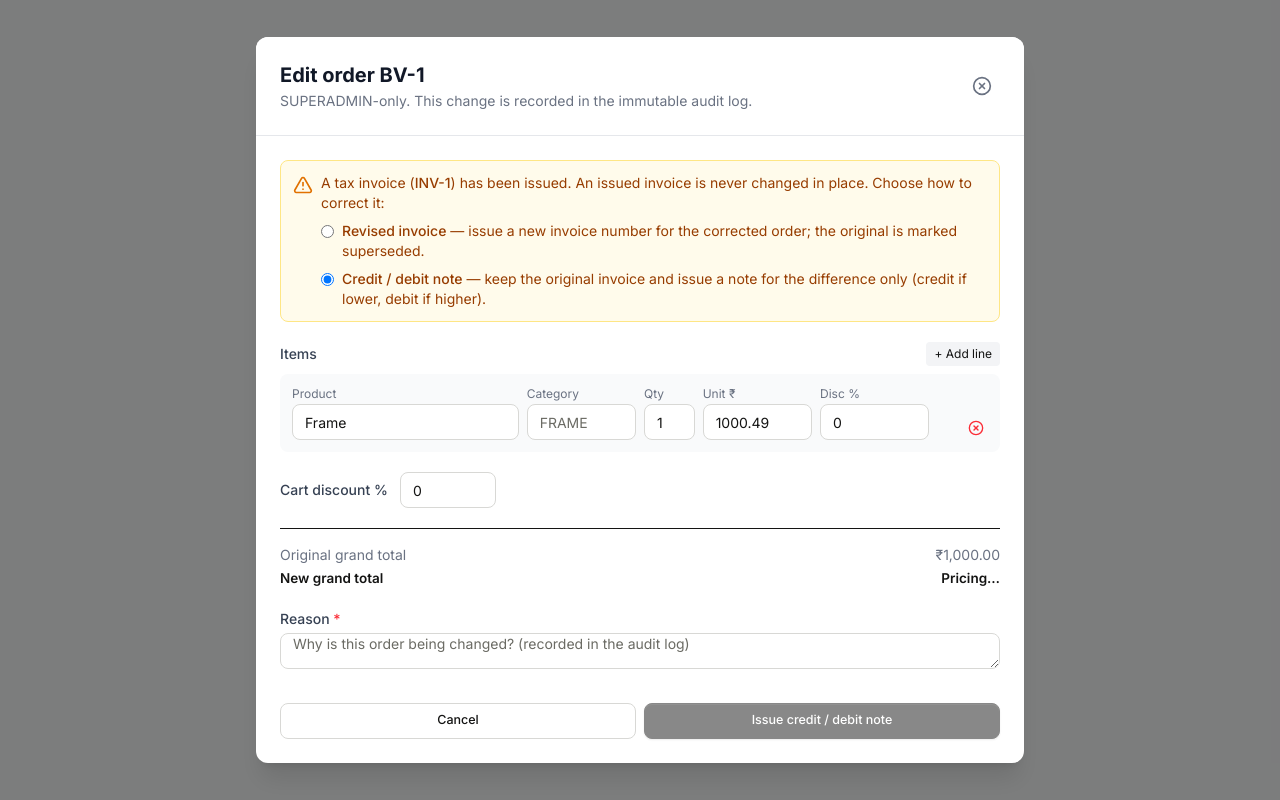
Test: Order edits use the saved-order server quote › ignores an older quote that finishes after the next edit
Replace the text in the number field showing "1000.49" below "Unit ₹" with "900.30" at [757, 422], box [703, 404, 812, 440]
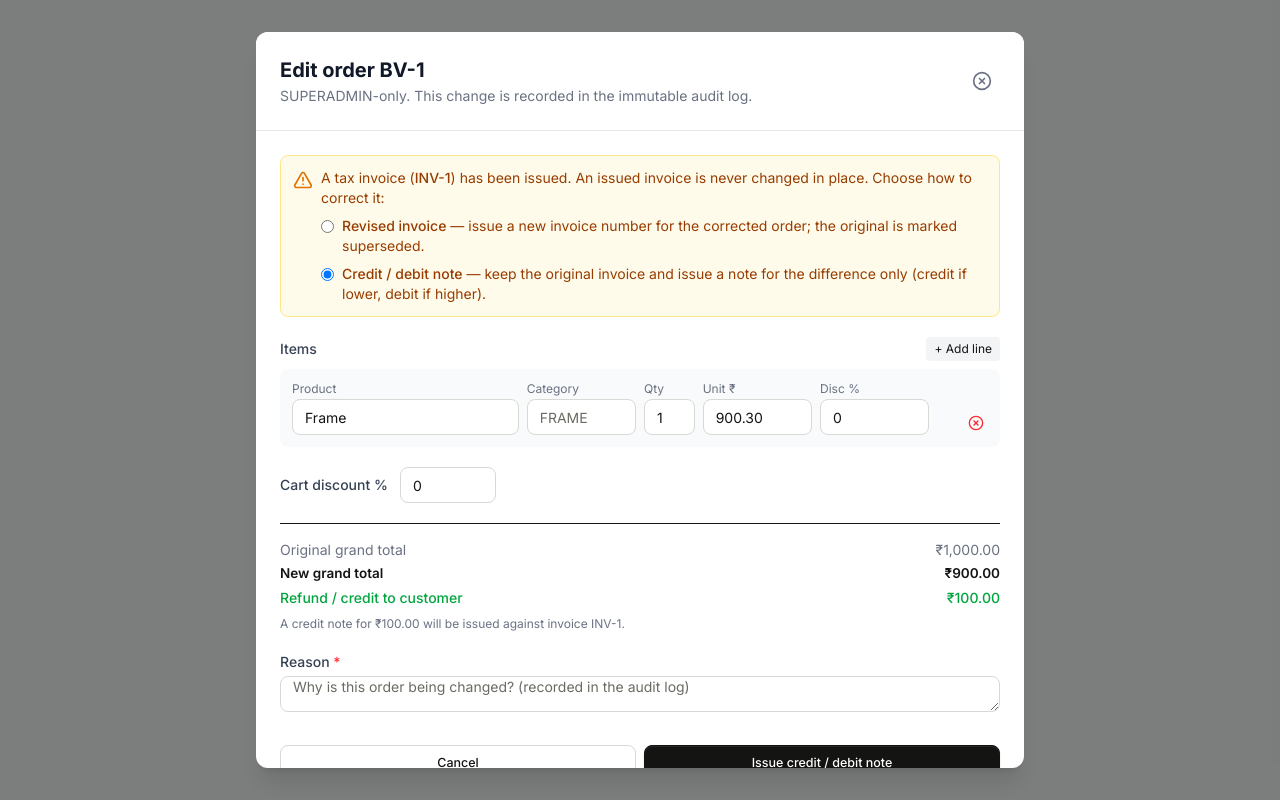
Result: the text "A credit note for" shows "100.00" at [375, 616, 420, 631]
